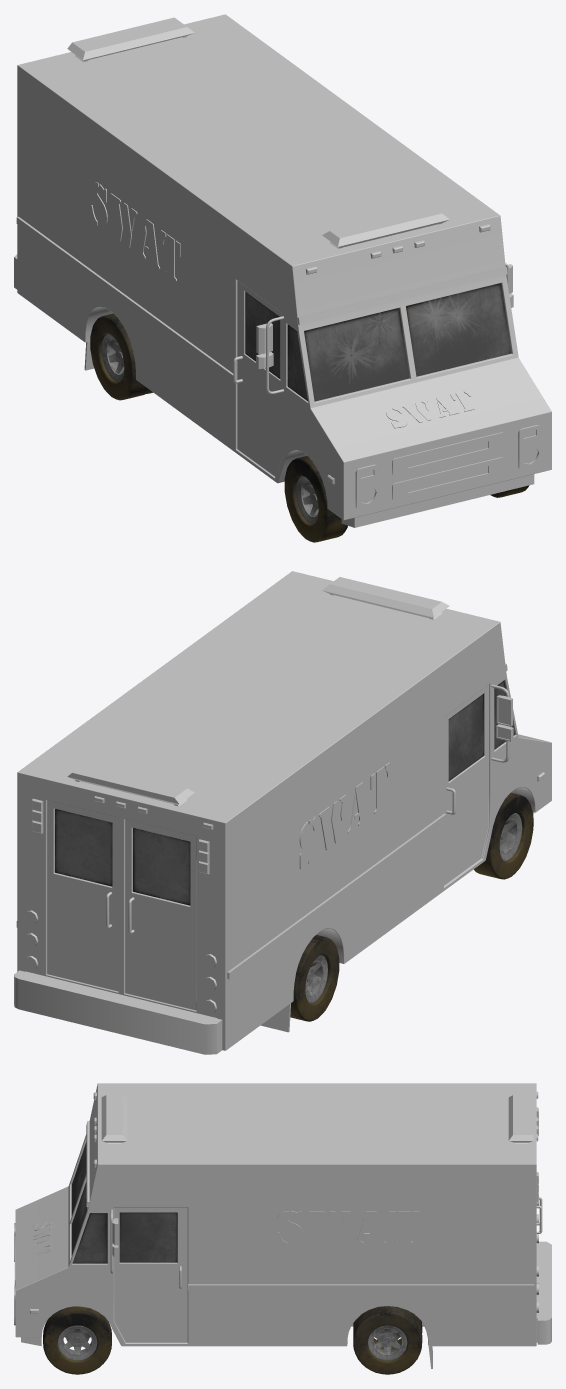
File: Sketchfab_2022_01_18_18_14_04.obj
3 renders of one model, top to bottom at view 1: azimuth 30°, elevation 25°; view 2: azimuth 150°, elevation 25°; view 3: azimuth 270°, elevation 25°, orthographic. The views are drawn at different scales.
Visible parts, largest first — view 1: Main Body.058, Main Body.060, Main Body.059, Main Body.074, Main Body.022, Swat Left.002, Main Body.067, Main Body.021, Main Body, Main Body.025, Main Body.024, Main Body.013 (+8 smaller); view 2: Main Body.058, Main Body.001, Main Body.002, Main Body.003, Swat Left.002, Main Body.074, Main Body.067, Main Body.021, Main Body.062, Main Body.022, Main Body.025, Main Body.073 (+1 smaller); view 3: Main Body.058, Main Body.061, Main Body.067, Main Body.074, Swat Left, Main Body.023, Main Body.001, Main Body.063, Main Body.021, Main Body.022, Main Body.073, Main Body.066 (+3 smaller).
Boxes of the visible parts, <box> form: Main Body.058: <box>17,14,551,520</box>; Main Body.060: <box>304,308,409,401</box>; Main Body.059: <box>406,283,511,376</box>; Main Body.074: <box>284,455,529,542</box>; Main Body.022: <box>67,17,194,60</box>; Swat Left.002: <box>90,182,180,281</box>; Main Body.067: <box>90,313,149,400</box>; Main Body.021: <box>322,206,449,247</box>; Main Body: <box>341,474,534,527</box>; Main Body.025: <box>16,216,233,382</box>; Main Body.024: <box>297,267,507,324</box>; Main Body.013: <box>392,457,504,501</box>; Main Body.058: <box>17,571,551,1050</box>; Main Body.001: <box>14,970,222,1054</box>; Main Body.002: <box>55,809,112,886</box>; Main Body.003: <box>133,828,190,905</box>; Swat Left.002: <box>299,762,389,869</box>; Main Body.074: <box>474,793,533,879</box>; Main Body.067: <box>290,935,339,1021</box>; Main Body.021: <box>322,577,449,618</box>; Main Body.062: <box>448,693,483,781</box>; Main Body.022: <box>67,763,194,804</box>; Main Body.025: <box>227,813,446,979</box>; Main Body.073: <box>499,813,522,860</box>; Main Body.058: <box>15,1083,536,1346</box>; Main Body.061: <box>119,1212,177,1262</box>; Main Body.067: <box>353,1306,422,1374</box>; Main Body.074: <box>43,1306,111,1374</box>; Swat Left: <box>276,1211,419,1245</box>; Main Body.023: <box>188,1284,534,1290</box>; Main Body.001: <box>536,1241,551,1344</box>; Main Body.063: <box>72,1213,107,1263</box>; Main Body.021: <box>101,1095,127,1142</box>; Main Body.022: <box>508,1095,533,1142</box>; Main Body.073: <box>58,1325,97,1360</box>; Main Body.066: <box>368,1325,407,1360</box>.
Bounding box in the file's own units: 2.83 × 2.92 × 6.48.
